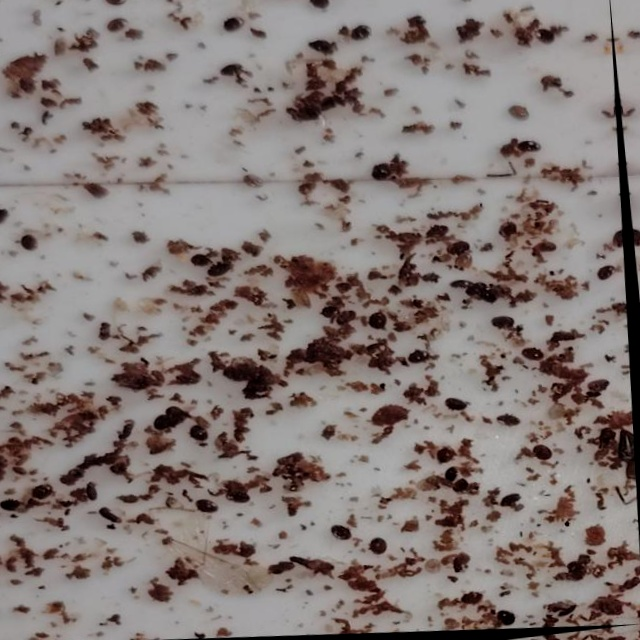varroa: (205, 264, 237, 284), (368, 162, 394, 186), (166, 407, 192, 428), (307, 40, 337, 58), (422, 225, 449, 244), (19, 237, 41, 260), (103, 21, 129, 40), (443, 396, 469, 415), (151, 419, 178, 437), (495, 219, 517, 241), (496, 609, 519, 630), (348, 26, 372, 46), (532, 240, 560, 257), (31, 488, 56, 507), (330, 527, 355, 546), (367, 313, 389, 334), (434, 447, 457, 467), (189, 428, 212, 448), (490, 315, 517, 332), (333, 310, 357, 329), (196, 502, 221, 520), (370, 538, 390, 560), (466, 281, 489, 300), (447, 241, 471, 259), (480, 288, 504, 306), (496, 414, 521, 431), (499, 492, 524, 509), (225, 493, 251, 509), (521, 347, 545, 364), (407, 351, 431, 368), (596, 264, 618, 282), (188, 258, 214, 273), (220, 65, 244, 81), (534, 28, 554, 47), (533, 445, 554, 463), (222, 20, 244, 37), (321, 307, 343, 324), (464, 591, 487, 607), (518, 140, 539, 157), (610, 227, 624, 252), (452, 478, 471, 496), (444, 467, 461, 485), (609, 302, 627, 318)
